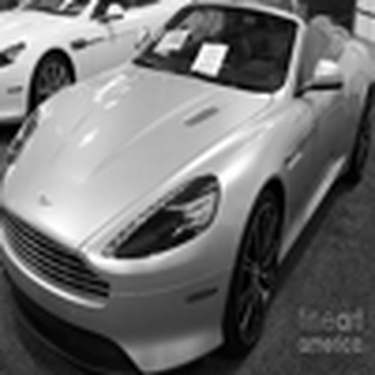car: (5, 4, 370, 370), (2, 3, 198, 126)
